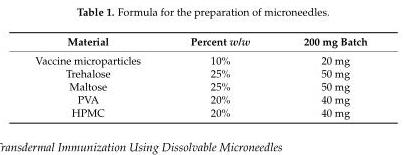table: (34, 34, 366, 118)
table column: (34, 34, 164, 118), (164, 34, 276, 118), (276, 34, 366, 118)
table column header: (34, 34, 366, 50)
table row: (34, 34, 366, 50), (34, 50, 366, 66), (34, 66, 366, 79), (34, 79, 366, 92), (34, 92, 366, 105), (34, 105, 366, 118)
